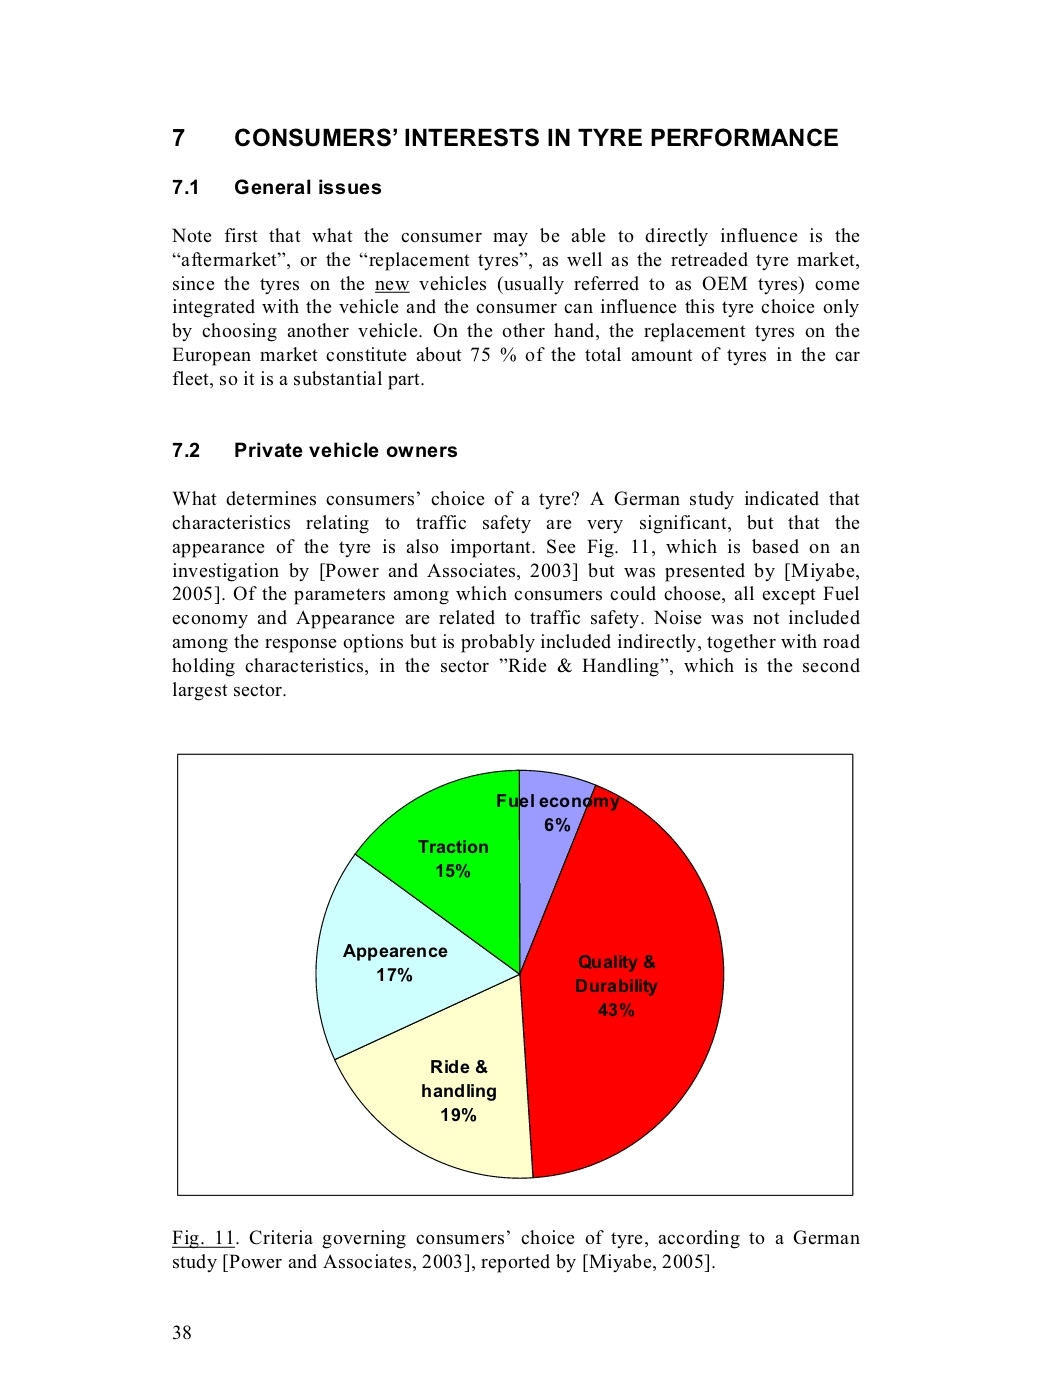figure: (177, 752, 853, 1196)
